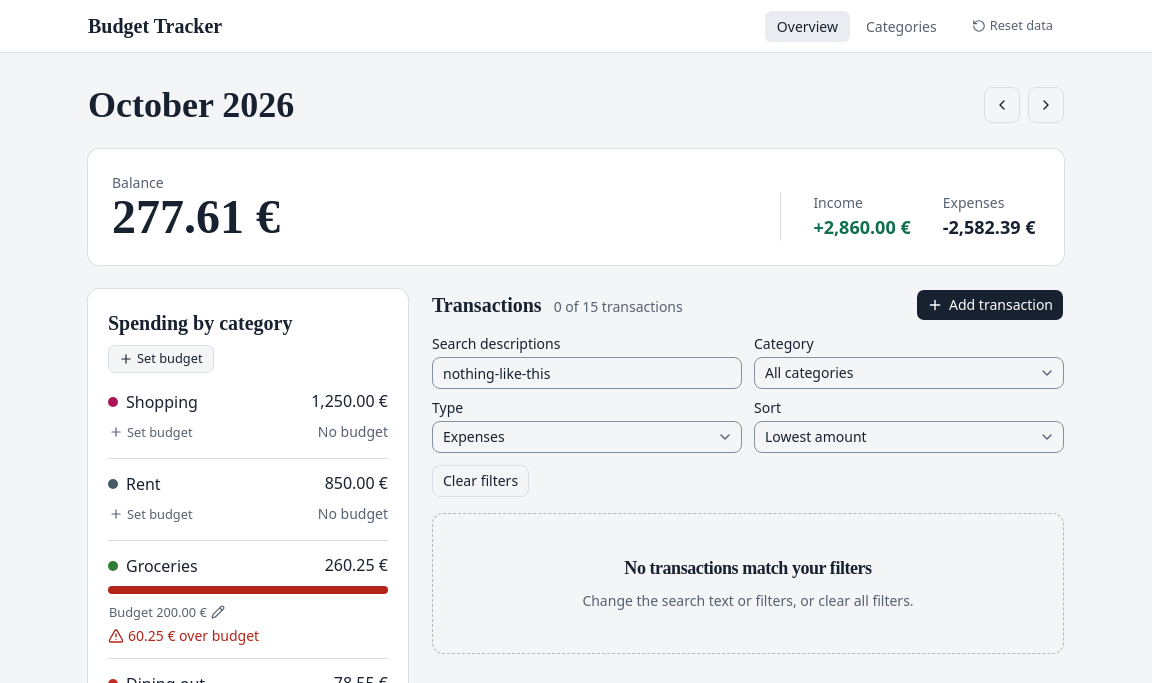
Scenario: month view › shows a message when no transaction matches, and clears all filters
The image size is (1152, 683).
Expected: the text "No transactions match your filters" is shown, [624,554,872,582]
Click the button "Clear filters" at (481, 481), box [432,465,529,497]
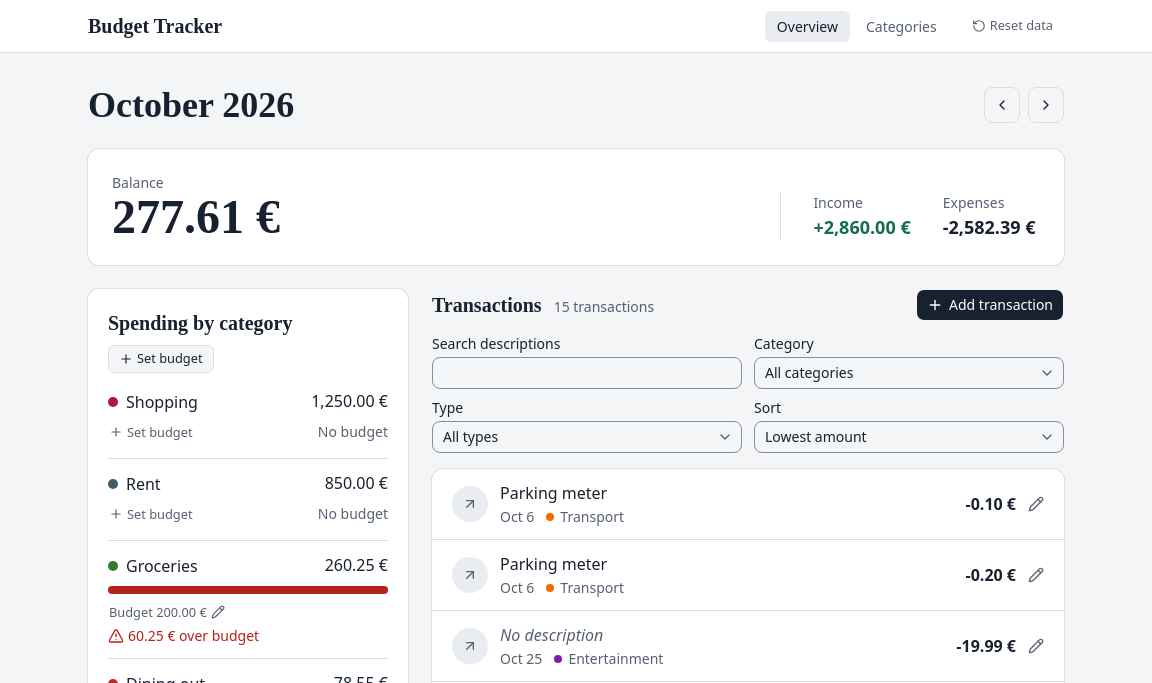
Result: the search field labelled "Search descriptions" is empty at [432,357,742,389]
